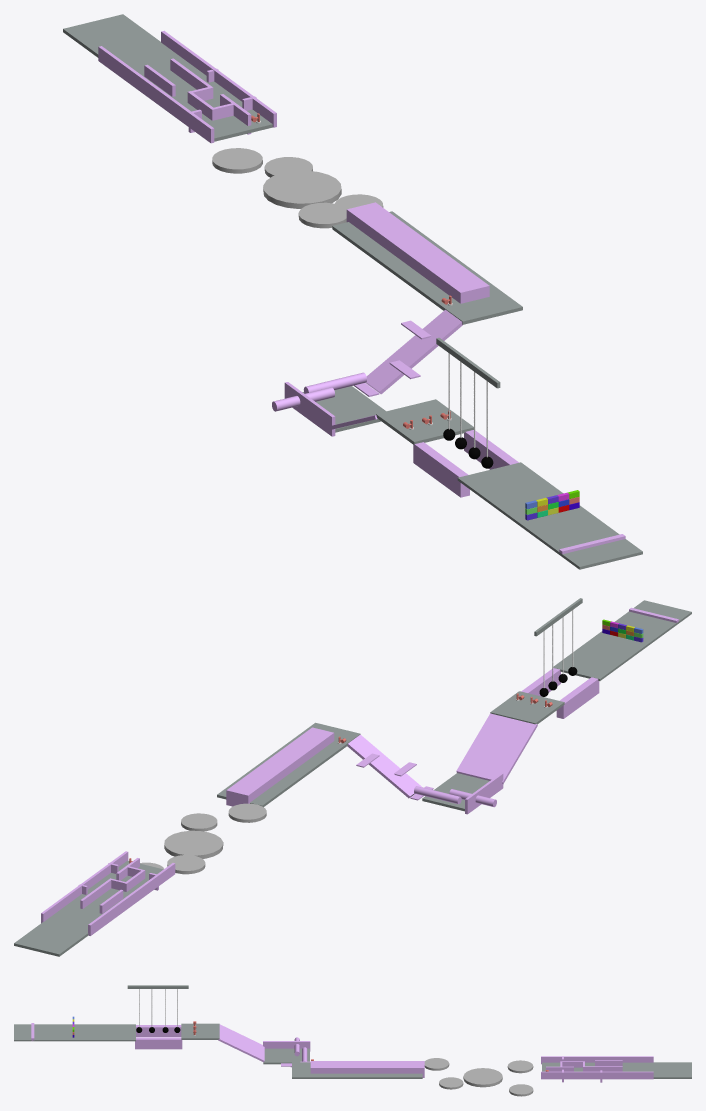
Rendered from level1.glb.
3 views of the same model, one above another, from view 1: azimuth 30°, elevation 25°; view 2: azimuth 150°, elevation 25°; view 3: azimuth 270°, elevation 25° (orthographic). The views are drawn at different scales.
Visible parts, largest first — view 1: start, center, finish.002, finish, animated.002, Cube, animated.001, animated.004, Cube.001; view 2: start, finish, center, finish.002, animated.002, Cube, animated.004, animated.001, animated.007; view 3: start, center, finish, finish.002, animated.002, Cube.001, Cube, animated.001, animated.004, animated.003, animated.007, Cube.003.
Part boxes in pixels (x1,y1,x2,y2): start: (63, 14, 276, 143); center: (332, 202, 522, 394); finish.002: (457, 462, 642, 569); finish: (284, 382, 473, 444); animated.002: (263, 170, 341, 208); Cube: (413, 442, 469, 497); animated.001: (212, 148, 262, 173); animated.004: (298, 202, 346, 228); Cube.001: (464, 430, 518, 469); start: (14, 851, 175, 956); finish: (410, 691, 564, 814); center: (217, 722, 422, 807); finish.002: (553, 600, 691, 680); animated.002: (164, 830, 223, 858); Cube: (556, 677, 599, 718); animated.004: (228, 803, 266, 822); animated.001: (167, 855, 205, 874); animated.007: (181, 813, 217, 831); start: (541, 1056, 691, 1082); center: (292, 1061, 424, 1078); finish: (181, 1023, 310, 1067); finish.002: (14, 1024, 135, 1041); animated.002: (463, 1068, 502, 1087); Cube.001: (135, 1037, 182, 1049); Cube: (136, 1025, 181, 1036); animated.001: (507, 1060, 533, 1073); animated.004: (424, 1058, 449, 1070); animated.003: (509, 1084, 533, 1096); animated.007: (439, 1077, 463, 1089); Cube.003: (127, 985, 188, 988).
Bounding box in the file's own units: 49.13 × 26.3 × 222.
